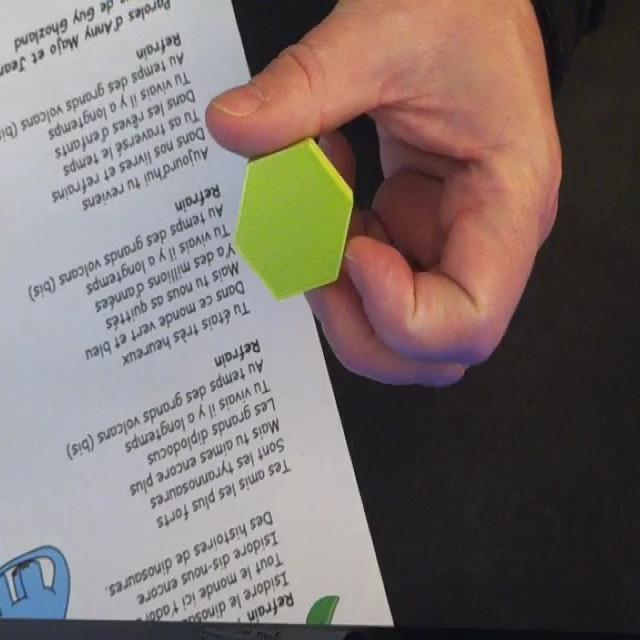hexagon: (231, 135, 357, 302)
